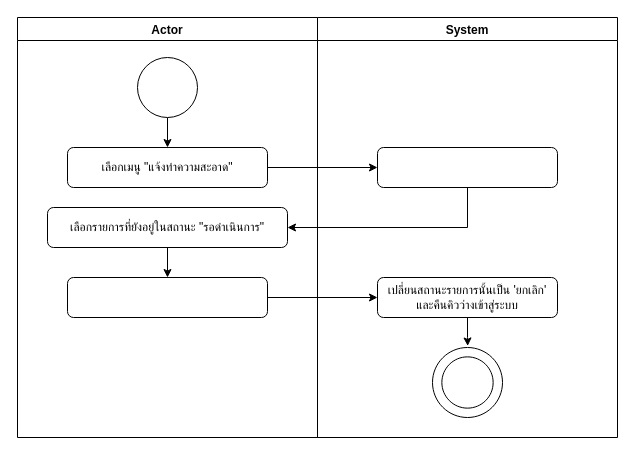
This 635x455 diagram has some shape labels left out. Each missing label, with the centre of its shape:
กดปุ่ม "ยกเลิกบริการ" และกดยืนยัน: point (167, 297)
แสดงรายการแจ้งทำความสะอาดปัจจุบันและประวัติย้อนหลัง: point (467, 167)
